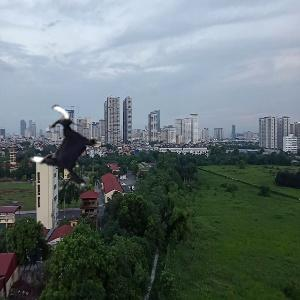drone: (17, 103, 112, 198)
